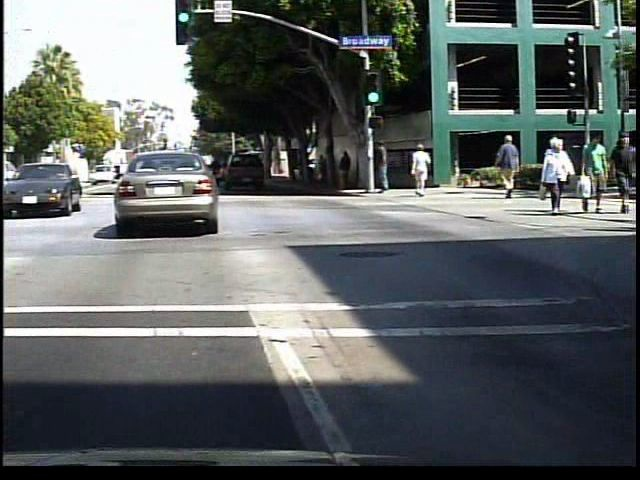person: (539, 137, 580, 218), (582, 133, 615, 215), (614, 128, 638, 215), (498, 137, 530, 201), (411, 141, 437, 199), (377, 138, 398, 200), (342, 147, 361, 192), (322, 152, 337, 190)
